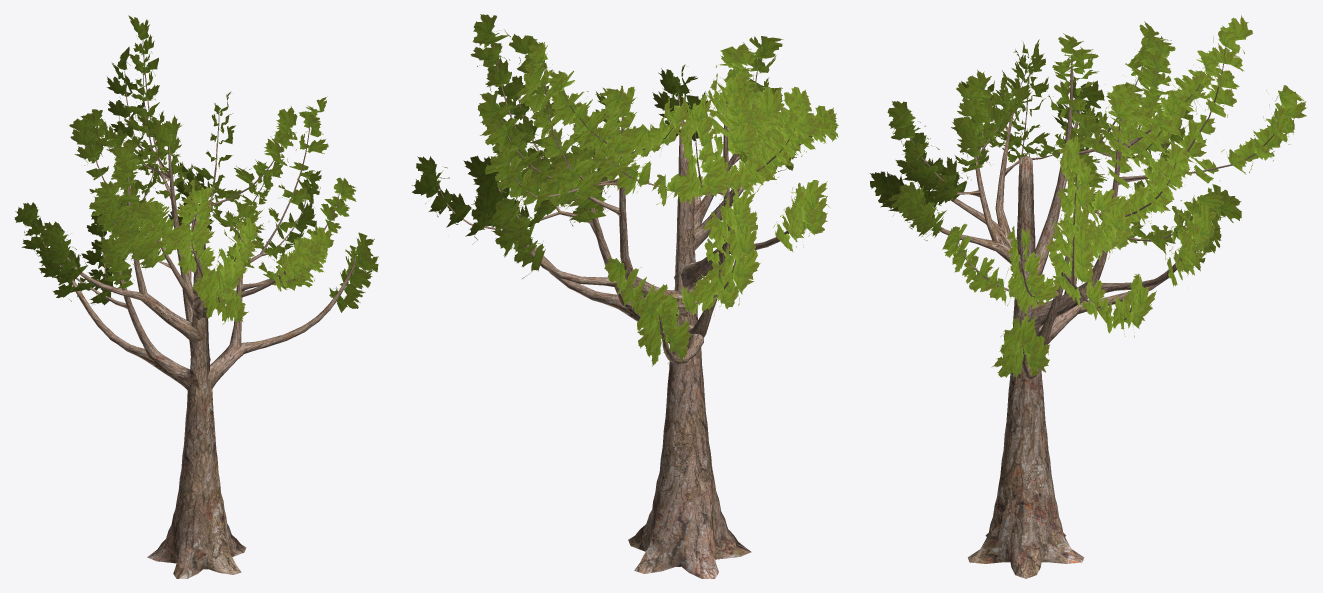
Rendered from maple_tree_f_01.fbx.
3 renders of one model, left to right at view 1: azimuth 30°, elevation 25°; view 2: azimuth 150°, elevation 25°; view 3: azimuth 270°, elevation 25°, orthographic. The views are drawn at different scales.
Visible parts, largest first — view 1: leaf maple_1, bark02_0; view 2: leaf maple_1, bark02_0; view 3: leaf maple_1, bark02_0.
Part boxes in pixels (left/top/right/bottom): leaf maple_1: left=14, top=15, right=378, bottom=328; bark02_0: left=35, top=35, right=355, bottom=578; leaf maple_1: left=412, top=14, right=838, bottom=366; bark02_0: left=438, top=43, right=809, bottom=578; leaf maple_1: left=870, top=15, right=1306, bottom=381; bark02_0: left=910, top=47, right=1281, bottom=578.
Bounding box in the file's own units: 366 × 523 × 379.
Materials: 2 (2 with a texture image).
